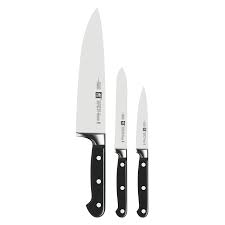knife: (74, 6, 108, 218), (113, 67, 128, 218), (134, 85, 150, 218)
